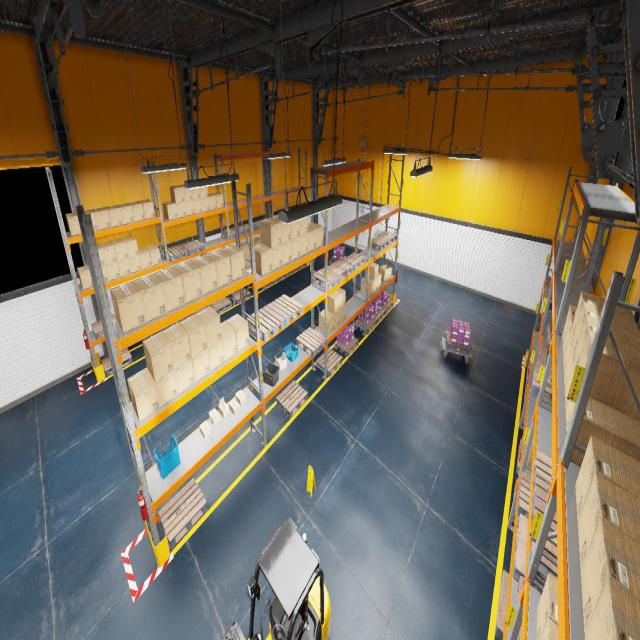box: (580, 519, 640, 634), (578, 473, 640, 572), (575, 436, 640, 523), (578, 330, 640, 420), (566, 398, 640, 466), (584, 578, 640, 640), (573, 303, 640, 354), (574, 316, 640, 365), (572, 292, 634, 340), (110, 281, 146, 333), (127, 368, 160, 422), (133, 273, 167, 322), (142, 331, 174, 381), (536, 573, 558, 639), (153, 267, 185, 312), (162, 322, 191, 370), (172, 260, 202, 303), (179, 313, 207, 358), (190, 254, 218, 295), (195, 306, 222, 348), (205, 249, 232, 287), (220, 244, 245, 280), (226, 314, 249, 352), (155, 370, 178, 407), (174, 359, 195, 394), (250, 243, 272, 276), (260, 218, 282, 248), (221, 321, 237, 361), (562, 305, 577, 346), (192, 348, 210, 382), (270, 215, 290, 244), (565, 356, 575, 410), (208, 339, 224, 371), (564, 341, 574, 391), (563, 315, 574, 359), (563, 328, 573, 374), (92, 207, 111, 230), (77, 265, 93, 290), (540, 617, 558, 639), (105, 205, 123, 227), (99, 242, 116, 265), (308, 222, 323, 248), (65, 212, 81, 236), (319, 309, 334, 334), (111, 239, 128, 261), (122, 236, 139, 257), (128, 201, 145, 222), (117, 203, 134, 224), (139, 199, 155, 219), (162, 201, 178, 220), (146, 245, 161, 265), (105, 261, 120, 281), (138, 248, 152, 269), (566, 400, 575, 432), (327, 292, 340, 314), (85, 209, 98, 231), (360, 277, 374, 296), (117, 258, 131, 277), (218, 396, 230, 418), (179, 184, 193, 202), (272, 245, 282, 270), (128, 255, 142, 272), (170, 185, 184, 202), (365, 262, 378, 280), (200, 420, 212, 439), (282, 240, 291, 265), (335, 288, 345, 310), (308, 226, 316, 252), (211, 192, 224, 208), (291, 237, 300, 260), (379, 264, 391, 281), (208, 408, 220, 425), (527, 436, 533, 468), (366, 276, 378, 292), (290, 220, 300, 239), (229, 398, 240, 415), (300, 233, 308, 256), (235, 389, 246, 405), (97, 245, 105, 266), (176, 202, 186, 218), (300, 217, 308, 236), (241, 241, 250, 257), (208, 194, 217, 210), (193, 198, 202, 214), (185, 200, 194, 216), (235, 244, 246, 256), (201, 196, 209, 212), (334, 310, 340, 329), (102, 266, 108, 282), (192, 188, 200, 200), (340, 306, 345, 324), (200, 187, 208, 198), (530, 408, 534, 429), (541, 407, 552, 413), (246, 255, 251, 268), (378, 273, 382, 289), (254, 237, 260, 245), (536, 351, 539, 362), (244, 259, 247, 268)
forklift: (223, 516, 330, 640)
pallets: (158, 478, 207, 548), (528, 497, 558, 581), (513, 514, 542, 594), (532, 450, 556, 524), (516, 576, 540, 639), (247, 306, 284, 341), (276, 380, 308, 418), (267, 294, 303, 326), (495, 570, 509, 639), (530, 363, 552, 405), (296, 327, 326, 357), (101, 348, 132, 376), (316, 348, 342, 377), (516, 471, 530, 519), (91, 314, 115, 339), (314, 268, 341, 290), (445, 331, 470, 354), (334, 336, 358, 356), (328, 260, 353, 279), (537, 342, 552, 369), (344, 252, 366, 270), (164, 245, 188, 261), (355, 317, 377, 334), (181, 240, 205, 255), (211, 297, 232, 314), (368, 236, 390, 251), (230, 288, 250, 304), (377, 231, 397, 244), (223, 227, 243, 239), (239, 222, 256, 235), (512, 479, 517, 523), (194, 304, 216, 314), (372, 308, 385, 324), (516, 439, 521, 474), (546, 324, 552, 353), (544, 286, 552, 307), (381, 300, 393, 314), (261, 280, 275, 289), (544, 276, 551, 292), (331, 255, 346, 262), (253, 220, 263, 230), (276, 273, 288, 281), (522, 398, 525, 425), (524, 379, 527, 402), (298, 262, 306, 270), (288, 268, 297, 275), (526, 364, 528, 383)
